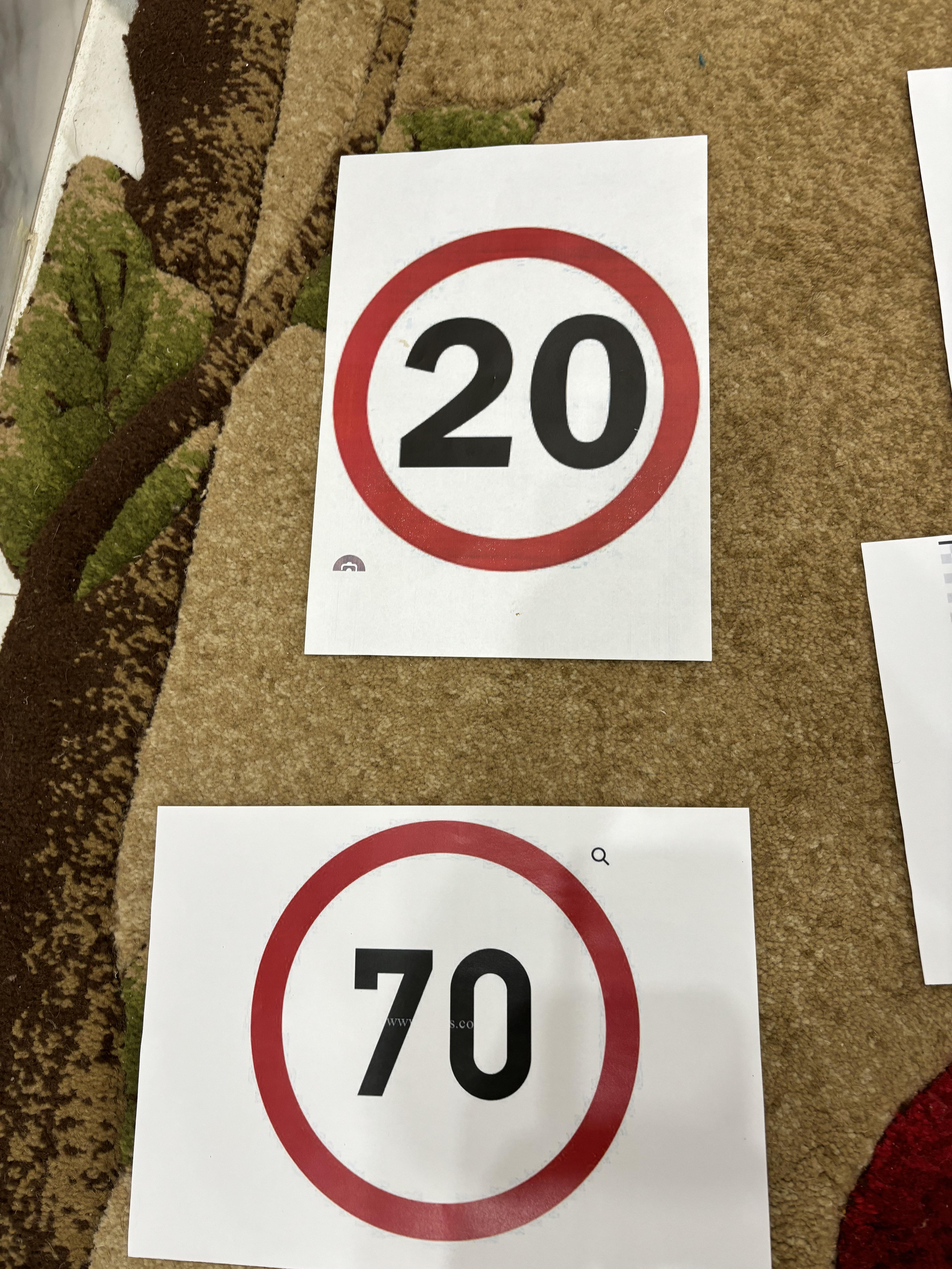20-Speed: (329, 216, 706, 582)
70-Speed: (236, 811, 651, 1251)
